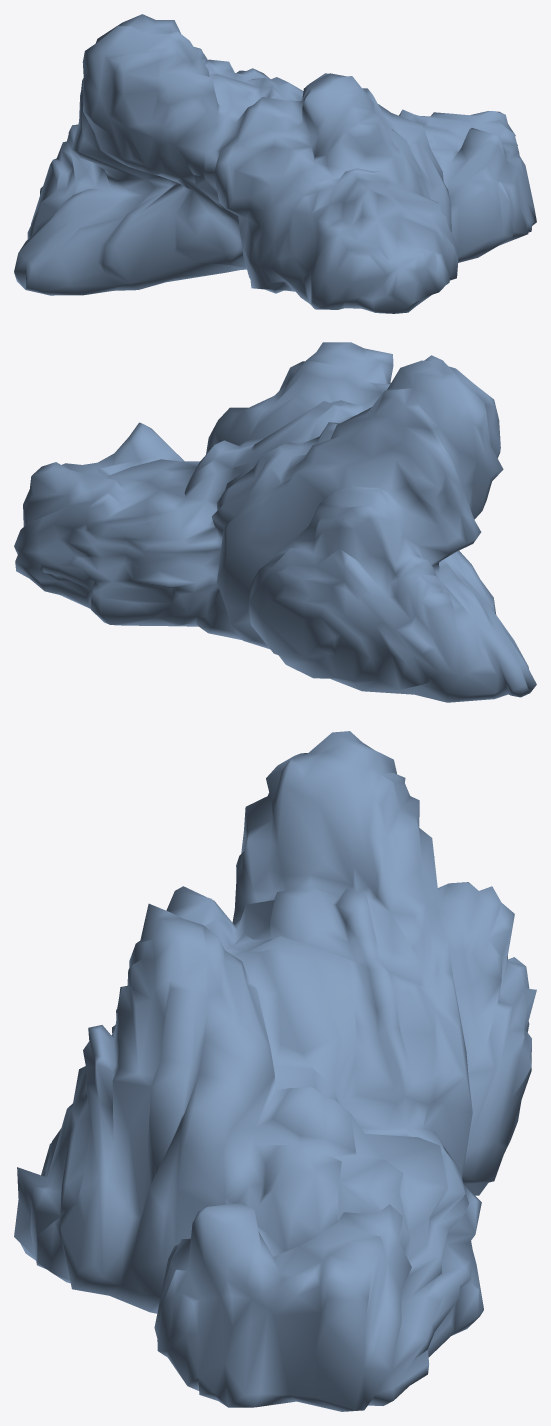
Rendered from SM_Rock_Green_10.FBX.
The picture shows the model from 3 angles, top to bottom: view 1: azimuth 30°, elevation 25°; view 2: azimuth 150°, elevation 25°; view 3: azimuth 270°, elevation 25°; orthographic projection. The views are drawn at different scales.
Visible parts, largest first — view 1: Rock_Green_012_LOD0; view 2: Rock_Green_012_LOD0; view 3: Rock_Green_012_LOD0.
Part boxes in pixels (left/top/right/bottom): Rock_Green_012_LOD0: left=14, top=14, right=536, bottom=313; Rock_Green_012_LOD0: left=14, top=342, right=536, bottom=702; Rock_Green_012_LOD0: left=14, top=731, right=536, bottom=1411.
Size of the model in its own units: 1815 by 1139 by 964.
